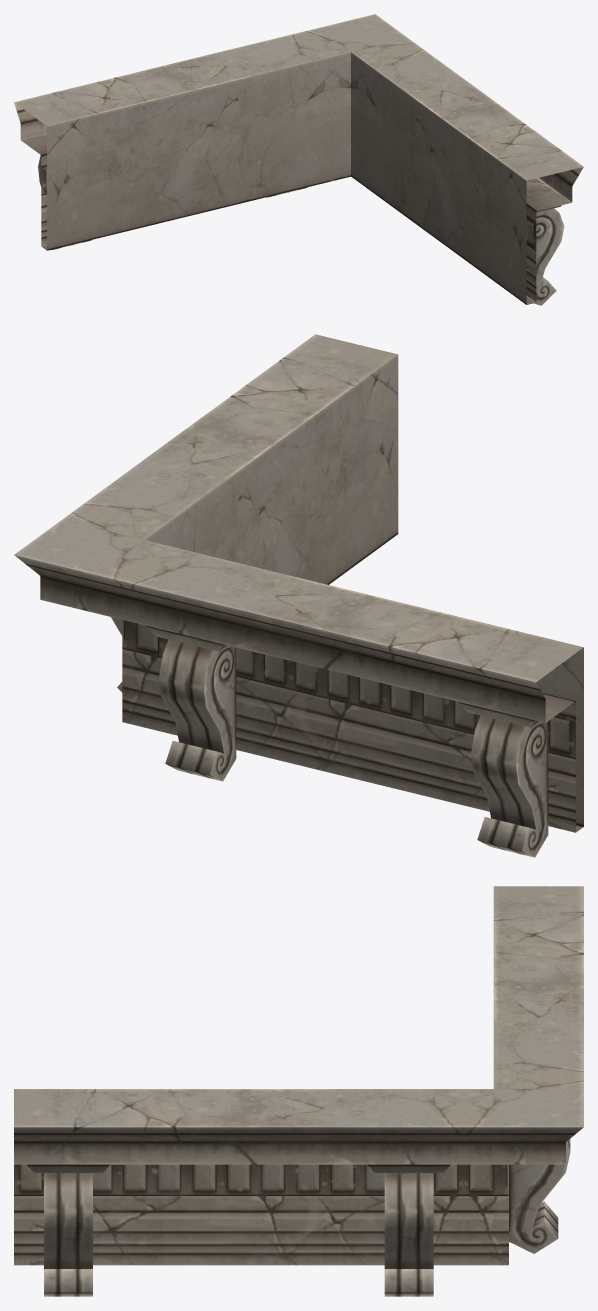
The model's file is ARC0110003.fbx.
The picture shows the model from 3 angles, top to bottom: view 1: azimuth 30°, elevation 25°; view 2: azimuth 150°, elevation 25°; view 3: azimuth 270°, elevation 25°; orthographic projection. The views are drawn at different scales.
Parts seen in each view (by area): view 1: smARC0110003; view 2: smARC0110003; view 3: smARC0110003.
Part boxes in pixels (bbox=[...]): smARC0110003: bbox=[14, 14, 583, 305]; smARC0110003: bbox=[14, 334, 583, 857]; smARC0110003: bbox=[14, 886, 583, 1296].
Size of the model in its own units: 410 by 151 by 410.
Materials: 1 (1 with a texture image).
